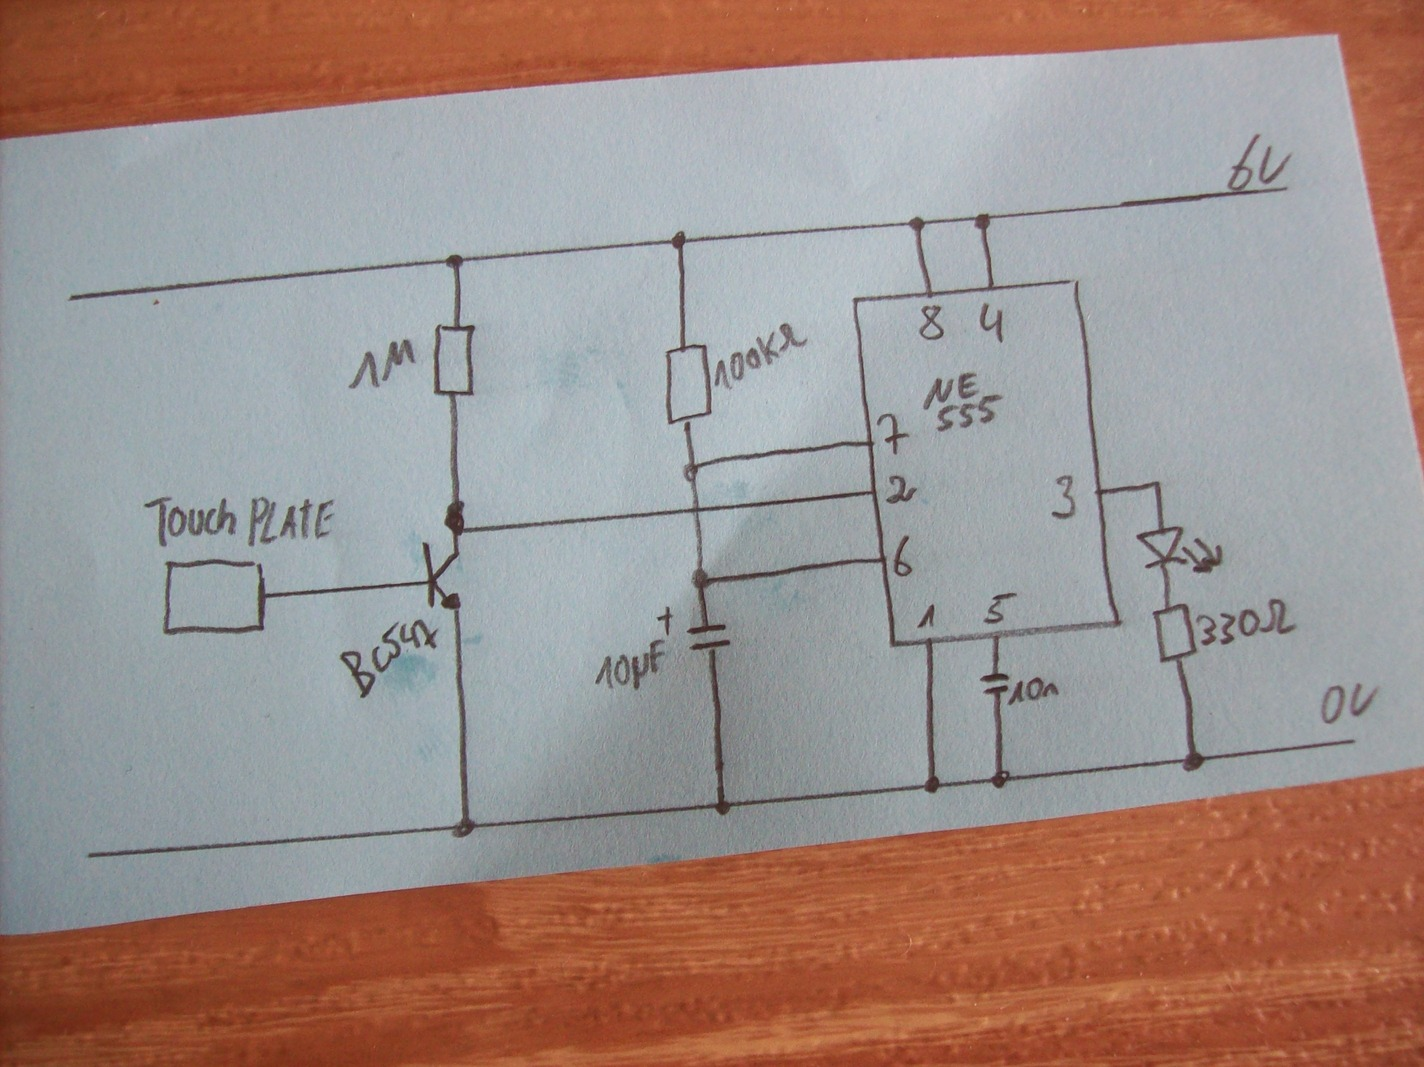capacitor.polarized: (655, 605, 736, 653)
capacitor.unpolarized: (979, 670, 1011, 698)
crossover: (686, 500, 708, 519)
diode.light_emitting: (1133, 525, 1226, 576)
integrated_cricuit.ne555: (851, 273, 1126, 652)
junction: (443, 499, 471, 537), (449, 816, 477, 841), (690, 565, 715, 592), (1181, 750, 1207, 774), (989, 769, 1014, 791), (681, 460, 702, 484), (922, 774, 944, 796), (971, 211, 994, 232), (711, 798, 735, 817), (670, 229, 689, 252), (443, 253, 466, 272), (908, 214, 928, 233), (1150, 476, 1165, 491)
resistor: (663, 341, 713, 427), (430, 319, 478, 400), (1151, 600, 1198, 665)
terminal: (159, 555, 271, 640), (59, 286, 86, 307), (1343, 732, 1365, 750), (1275, 180, 1296, 196), (81, 848, 102, 863)
text: (142, 493, 338, 548), (338, 618, 440, 700), (713, 322, 810, 389), (921, 370, 1004, 434), (1194, 597, 1299, 644), (592, 637, 667, 692), (1226, 132, 1294, 192), (347, 336, 420, 391), (1316, 680, 1383, 727), (874, 410, 912, 457), (1007, 675, 1060, 706), (1048, 472, 1079, 523), (977, 300, 1009, 346), (980, 590, 1018, 627), (890, 533, 919, 578), (882, 473, 919, 507), (916, 301, 947, 342), (915, 602, 940, 632)
transistor: (417, 539, 466, 614)
